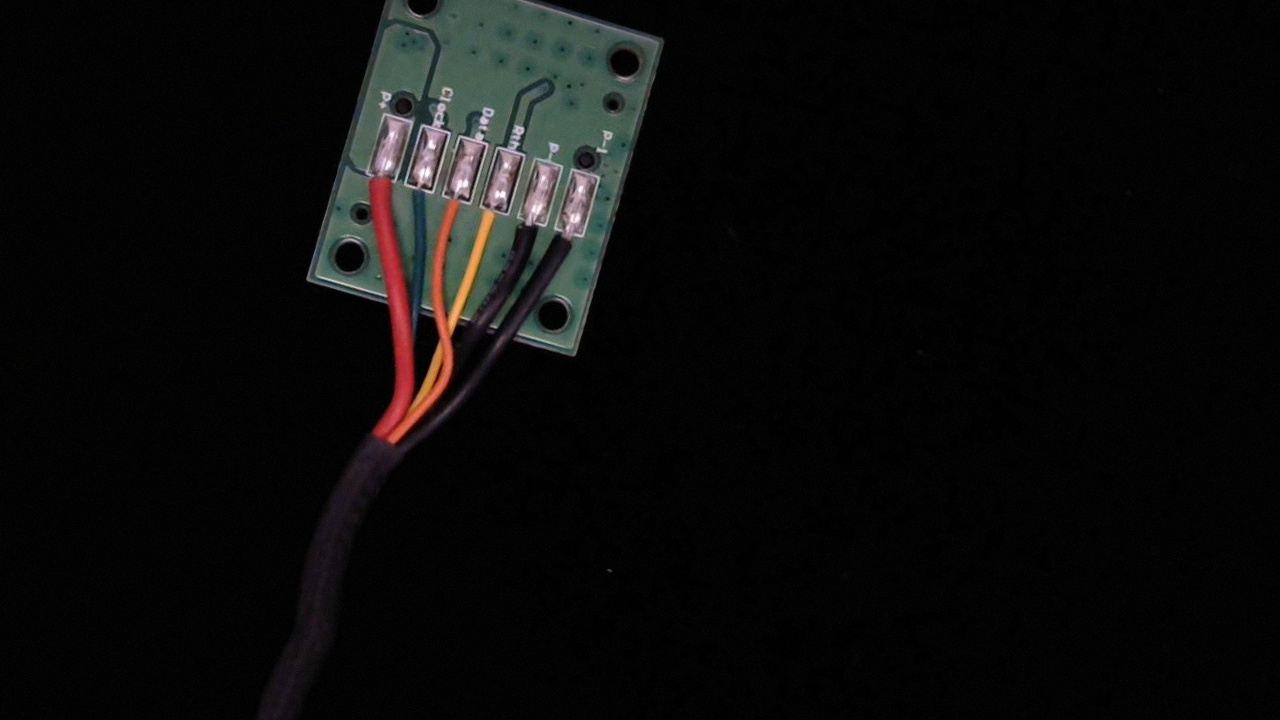Black: (501, 205, 550, 274)
Black1: (537, 216, 589, 289)
Green: (393, 168, 439, 229)
Orange: (425, 179, 476, 250)
Red: (350, 157, 403, 228)
Yellow: (464, 191, 513, 262)
